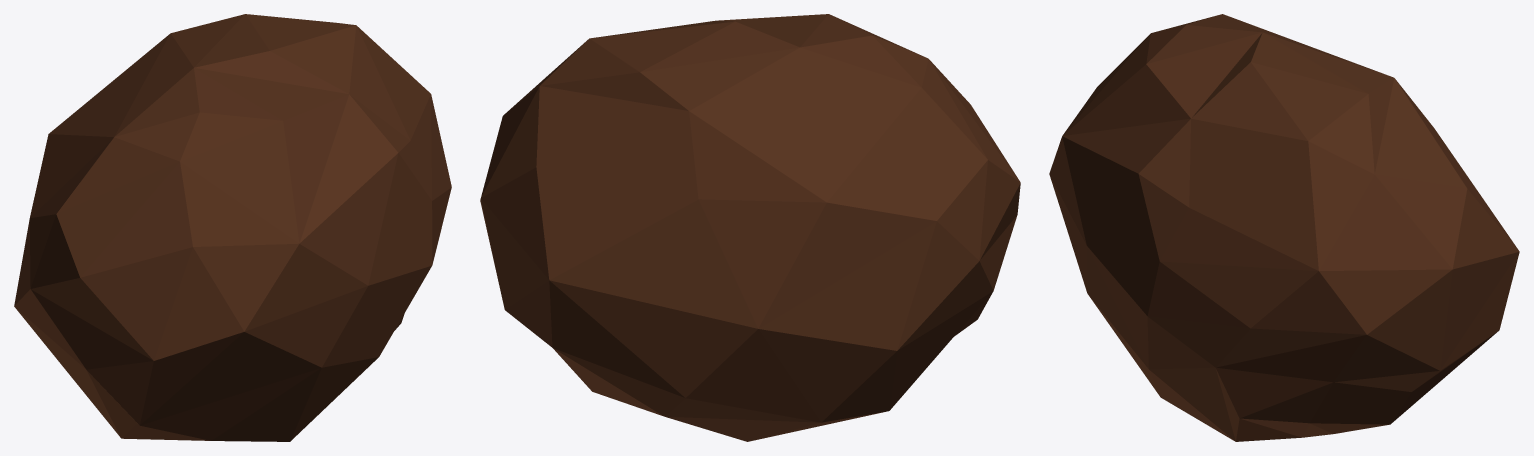
File: Boulder_01_Round.obj
The picture shows the model from 3 angles, left to right: view 1: azimuth 30°, elevation 25°; view 2: azimuth 150°, elevation 25°; view 3: azimuth 270°, elevation 25°; orthographic projection. The views are drawn at different scales.
Visible parts, largest first — view 1: Boulder_01_Round; view 2: Boulder_01_Round; view 3: Boulder_01_Round.
Part boxes in pixels (x1,y1,x2,y2): Boulder_01_Round: (14,14,451,441); Boulder_01_Round: (480,14,1020,441); Boulder_01_Round: (1049,14,1519,441).
Bounding box in the file's own units: 2.79 × 2.32 × 2.63.
